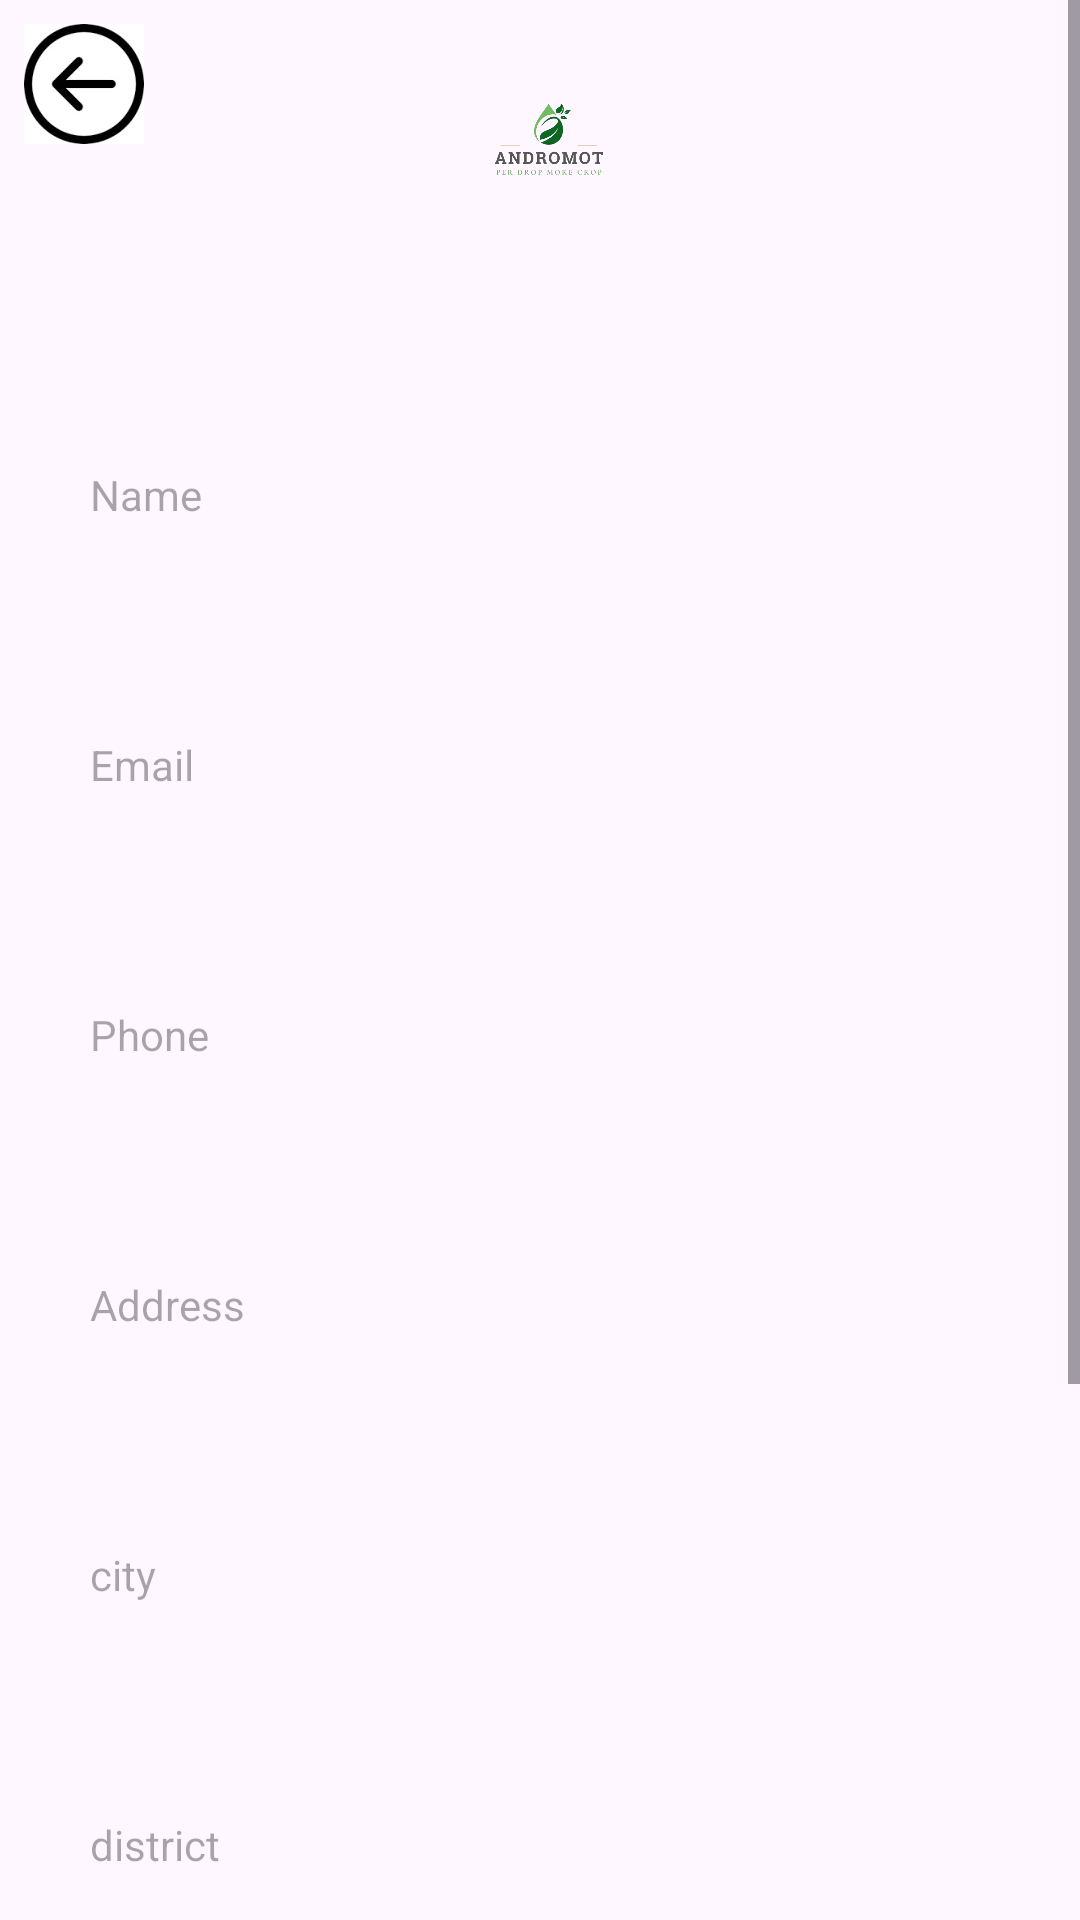

Icon click points for this 1080 × 1920 phone screenshot, format [x,y]:
back: [84,84]
